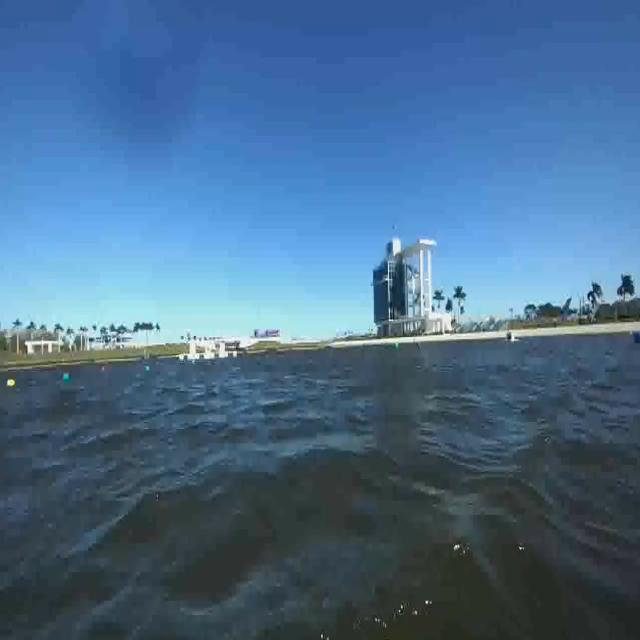yellow-buoy: (7, 378, 16, 389)
